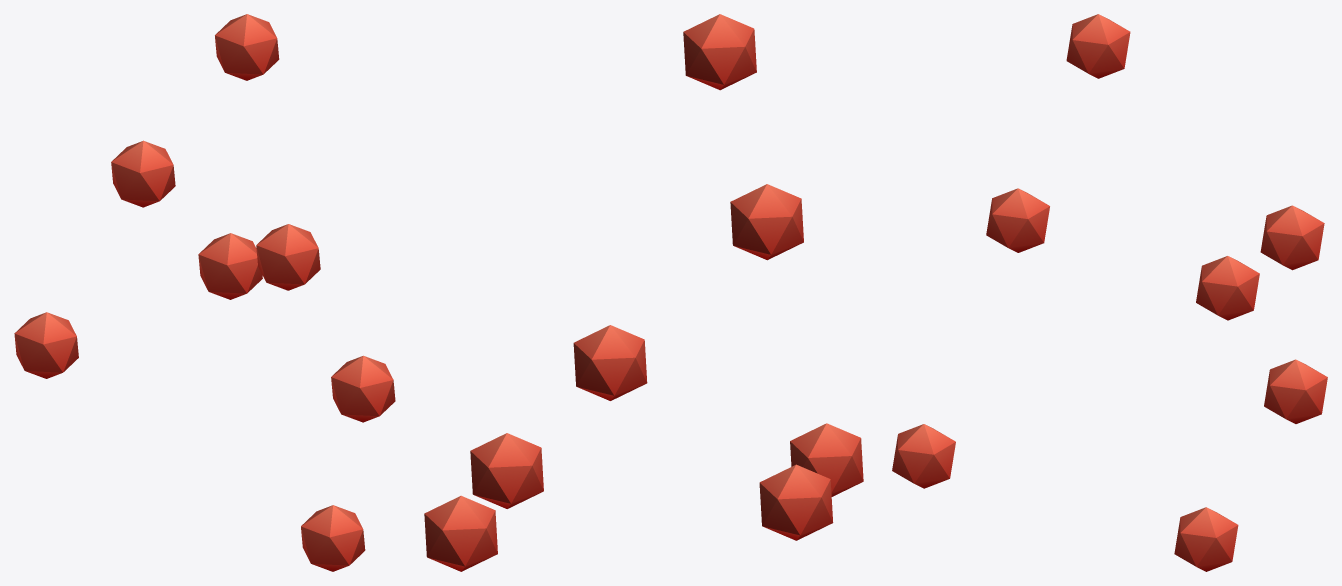
The model's file is RedBall.obj.
3 renders of one model, left to right at view 1: azimuth 30°, elevation 25°; view 2: azimuth 150°, elevation 25°; view 3: azimuth 270°, elevation 25°, orthographic. The views are drawn at different scales.
Parts seen in each view (by area): view 1: Christmas_Tree_056_Mesh.021; view 2: Christmas_Tree_056_Mesh.021; view 3: Christmas_Tree_056_Mesh.021.
Part boxes in pixels (x1=…): Christmas_Tree_056_Mesh.021: x1=14, y1=14, x2=395, y2=571; Christmas_Tree_056_Mesh.021: x1=424, y1=14, x2=863, y2=571; Christmas_Tree_056_Mesh.021: x1=892, y1=14, x2=1327, y2=571.
Size of the model in its own units: 1.78 by 2.32 by 1.93.
